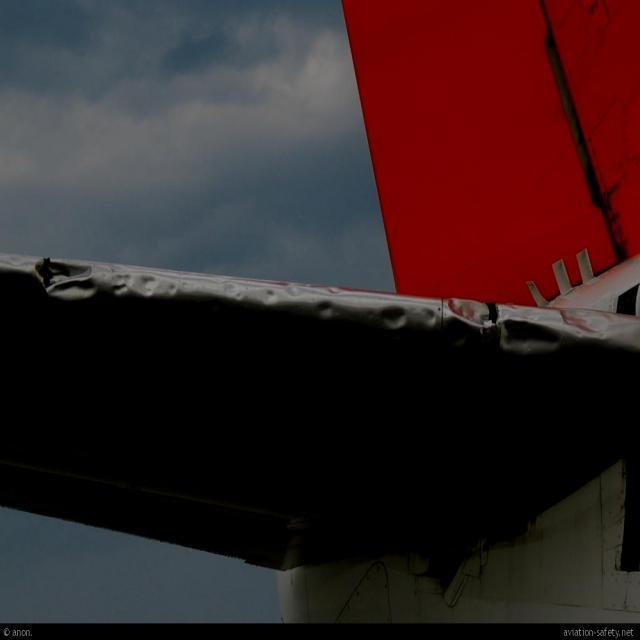dent: (28, 254, 609, 366)
